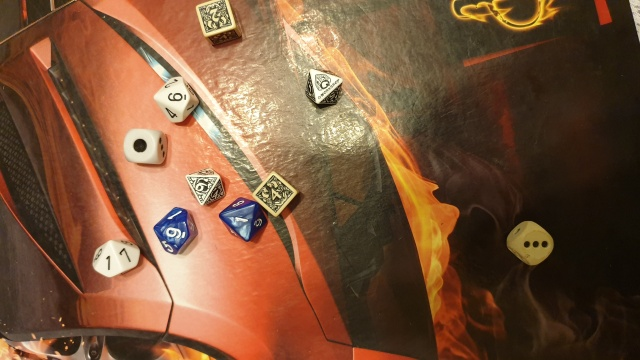d10-1: (90, 237, 143, 283), (222, 194, 254, 241)
d10-6: (154, 73, 200, 126)
d10-9: (153, 201, 197, 260)
d6-1: (117, 127, 167, 167)
d6-3: (506, 218, 555, 267)
d6p-2: (196, 1, 241, 43)
d6p-4: (252, 170, 299, 221)
d8p-6: (185, 167, 225, 208)
d8p-8: (302, 64, 346, 110)
